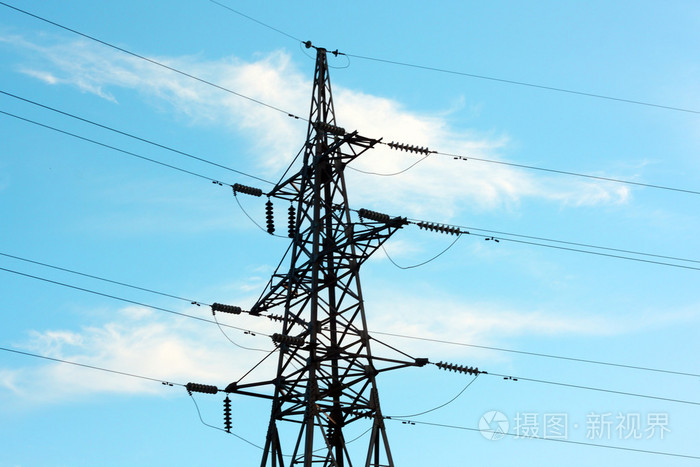insulator: (419, 220, 461, 236), (390, 141, 430, 156), (313, 120, 346, 137), (437, 361, 477, 375), (267, 314, 306, 328), (357, 208, 390, 224), (264, 200, 279, 233), (231, 182, 262, 197), (185, 382, 219, 395), (222, 396, 234, 431), (212, 303, 241, 316), (287, 206, 295, 233)
